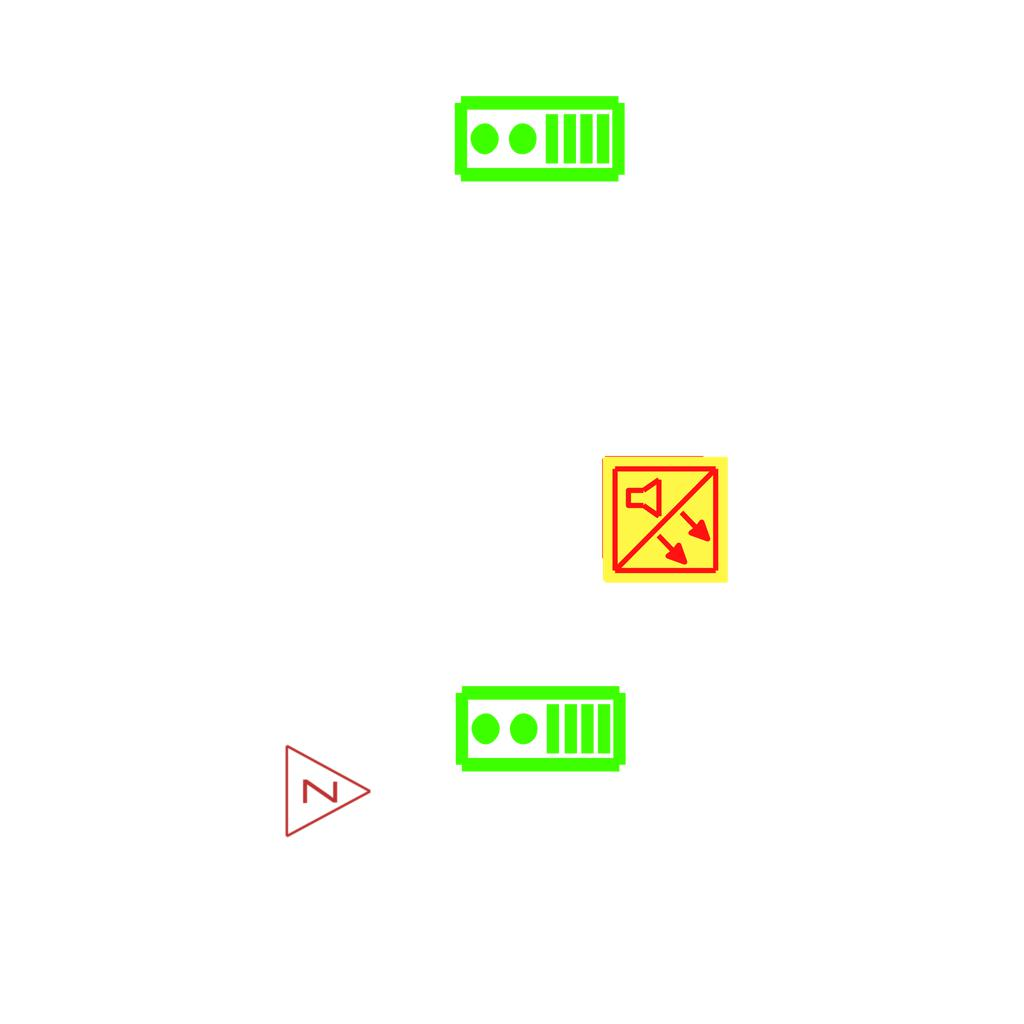Gegensprechanlage_mit_Video: (451, 93, 627, 188), (452, 683, 628, 778)
OKW_Multisensormelder_(Kombination_optischer_Rauch-Kahlenmonoxid_Waerme-Melder): (599, 454, 731, 586)
Zimmersignalleuchte: (278, 741, 378, 839)
